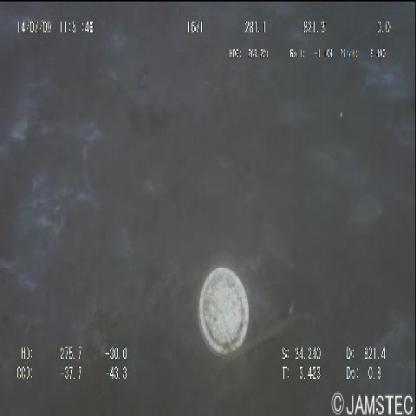Rác: (199, 268, 250, 358)
